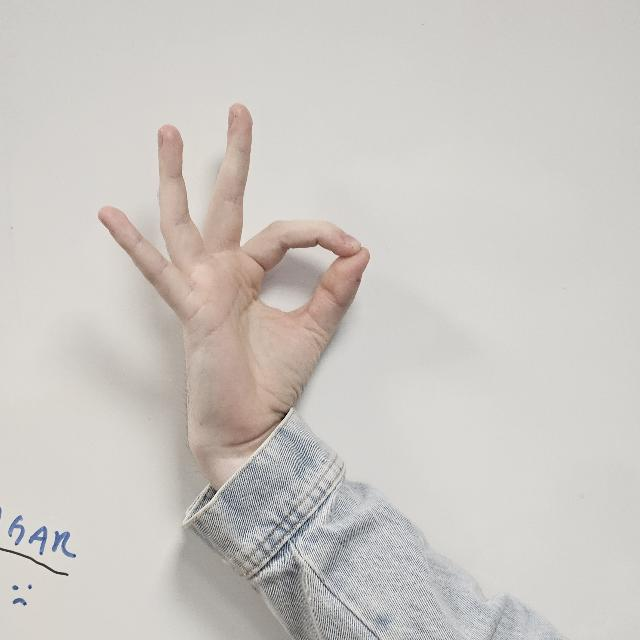Bolinha: (88, 94, 406, 438)
